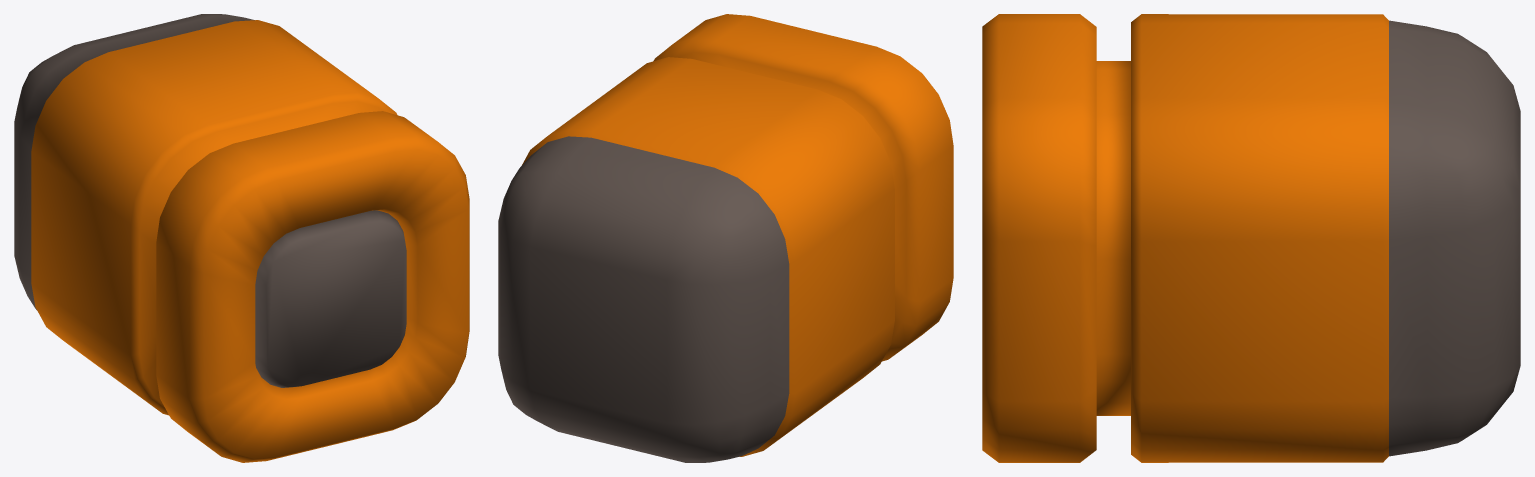
The model's file is cube_bullet.glb.
The picture shows the model from 3 angles, left to right: view 1: azimuth 30°, elevation 25°; view 2: azimuth 150°, elevation 25°; view 3: azimuth 270°, elevation 25°; orthographic projection. The views are drawn at different scales.
Visible parts, largest first — view 1: cube_bullet; view 2: cube_bullet; view 3: cube_bullet.
Boxes of the visible parts, box(x1,y1,x2,y2) form: cube_bullet: box(14, 14, 469, 462); cube_bullet: box(498, 14, 953, 462); cube_bullet: box(982, 14, 1520, 462).
Size of the model in its own units: 1.09 by 1.09 by 1.5.
